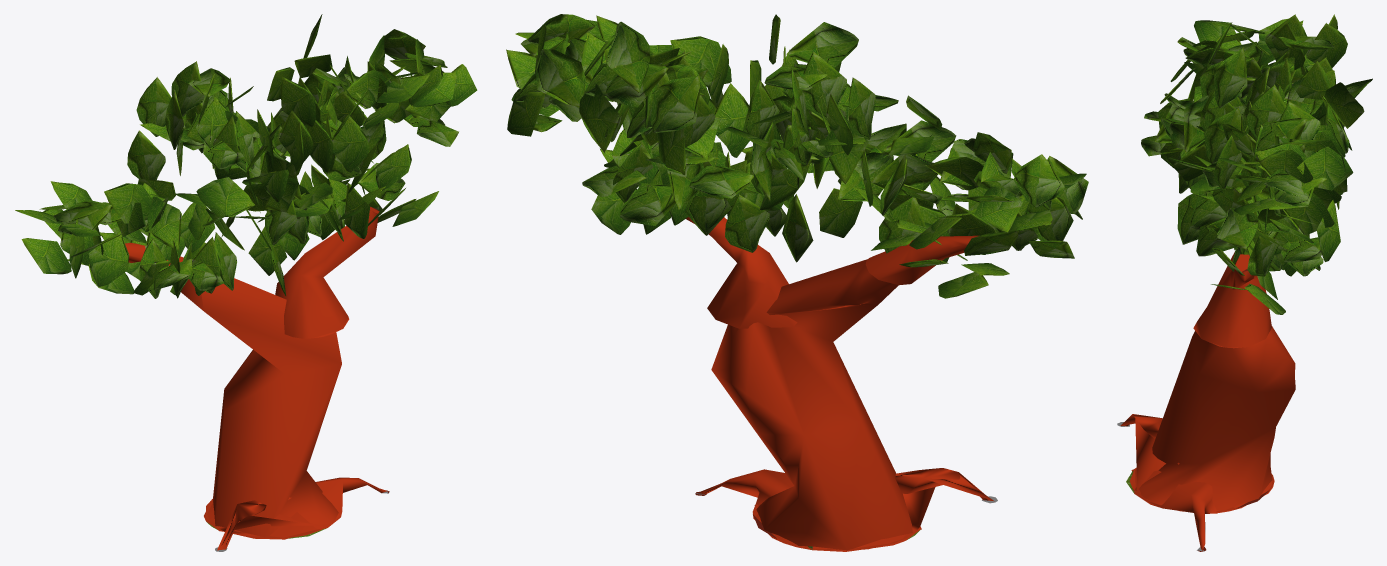
File: LESSERTREE.obj
The picture shows the model from 3 angles, left to right: view 1: azimuth 30°, elevation 25°; view 2: azimuth 150°, elevation 25°; view 3: azimuth 270°, elevation 25°; orthographic projection. The views are drawn at different scales.
Parts seen in each view (by area): view 1: nurbsToPoly707; view 2: nurbsToPoly707; view 3: nurbsToPoly707.
Boxes of the visible parts, x1,y1,x2,y2 form: nurbsToPoly707: (15,14,477,551); nurbsToPoly707: (506,14,1088,551); nurbsToPoly707: (1117,14,1372,551).
Size of the model in its own units: 9.4 by 8.63 by 4.28.
4 materials, 1 textured.
